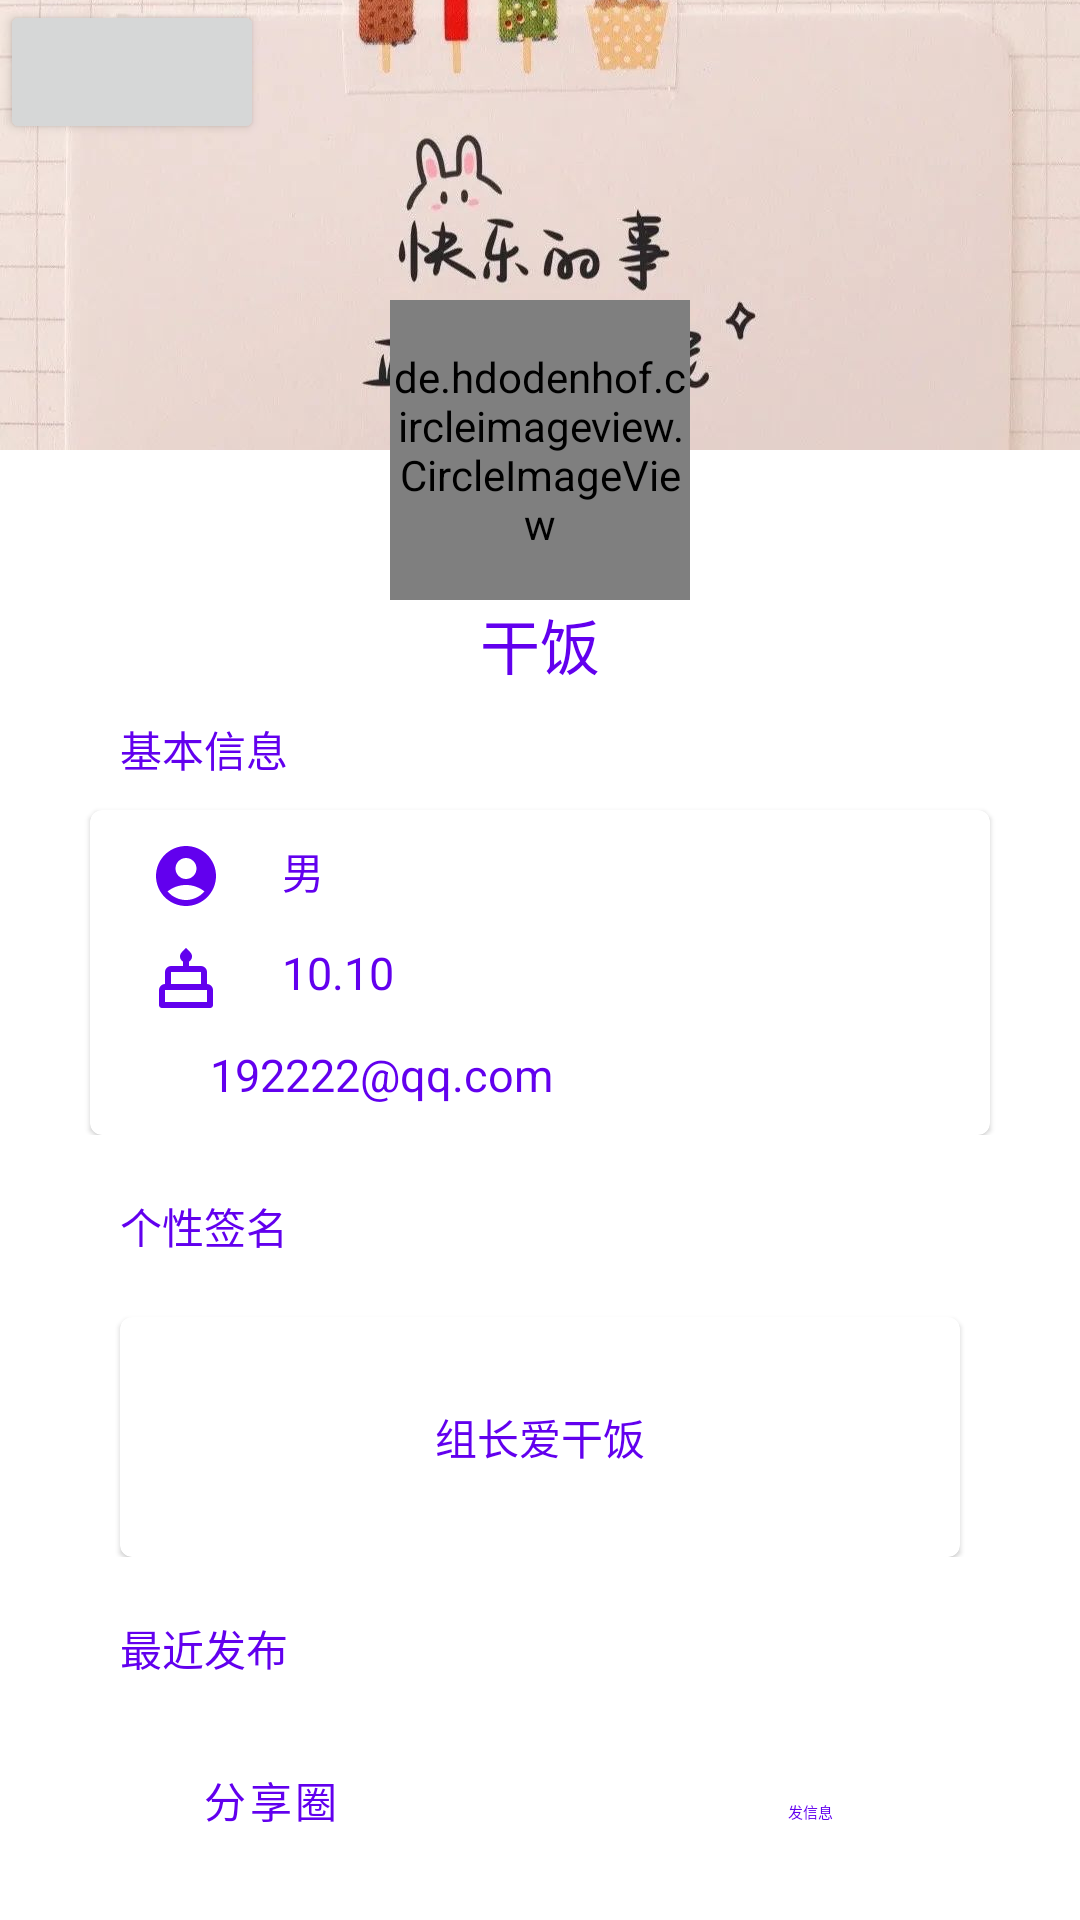

Named icons in this screenshot (1080*1920) and their bounding boxes, (x1, y1, x2, y2):
birthday: (159, 948, 213, 1008)
mine: (156, 846, 216, 906)
